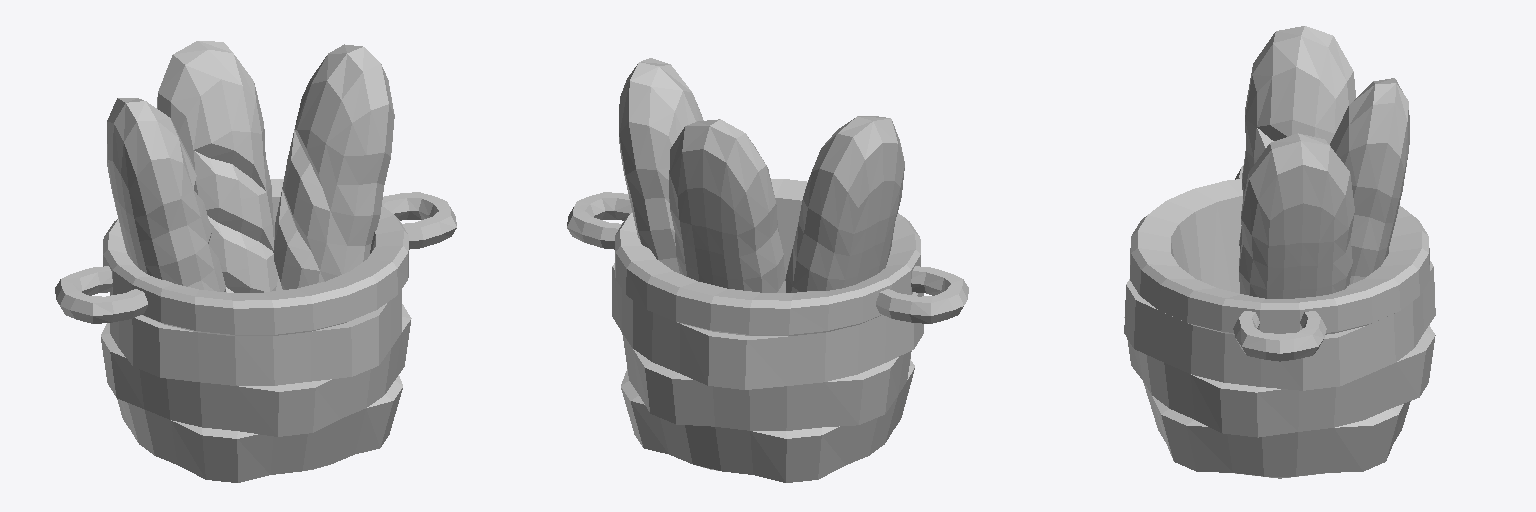
The model's file is basket_bread.obj.
The picture shows the model from 3 angles: view 1: azimuth 30°, elevation 25°; view 2: azimuth 150°, elevation 25°; view 3: azimuth 270°, elevation 25°; orthographic projection.
Parts seen in each view (by area): view 1: basket_bread; view 2: basket_bread; view 3: basket_bread.
Boxes of the visible parts, box(x1,y1,x2,y2) form: basket_bread: box(55, 41, 456, 482); basket_bread: box(567, 58, 968, 482); basket_bread: box(1124, 26, 1435, 478).
Size of the model in its own units: 1.45 by 1.22 by 1.